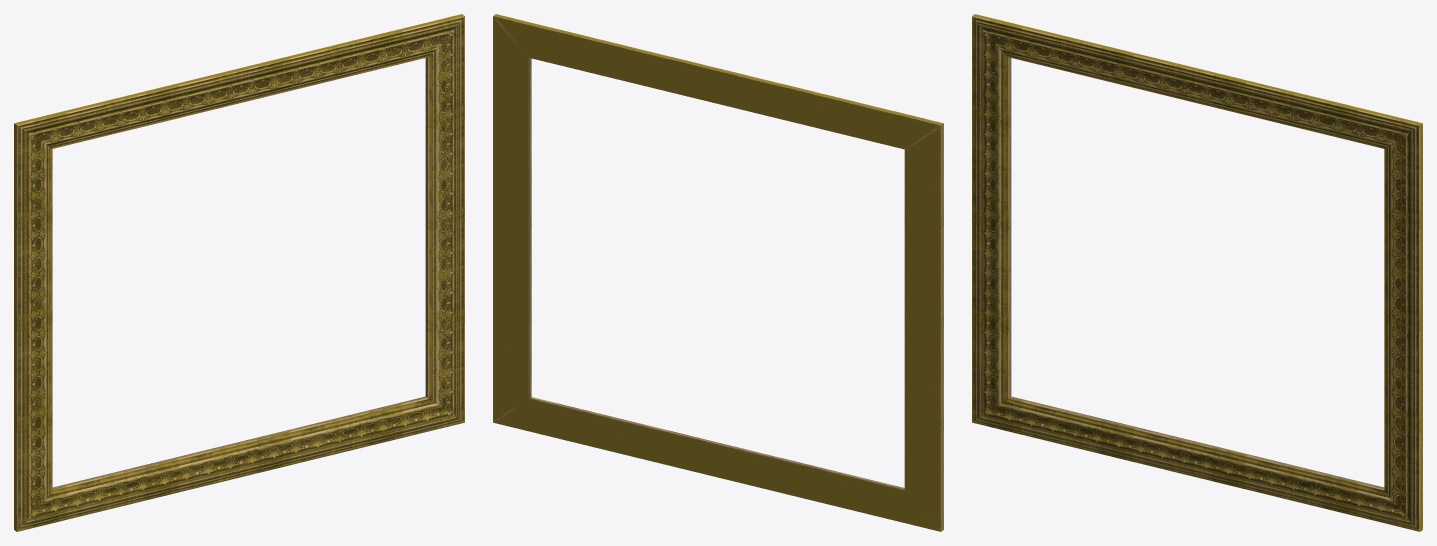
The model's file is GoldenFrame.fbx.
The picture shows the model from 3 angles, left to right: view 1: azimuth 30°, elevation 25°; view 2: azimuth 150°, elevation 25°; view 3: azimuth 330°, elevation 25°; orthographic projection.
Visible parts, largest first — view 1: Frame_1.001; view 2: Frame_1.001; view 3: Frame_1.001.
Boxes of the visible parts, box(x1,y1,x2,y2) form: Frame_1.001: box(14, 14, 464, 531); Frame_1.001: box(493, 14, 943, 531); Frame_1.001: box(972, 14, 1422, 531).
Size of the model in its own units: 23.06 by 20 by 0.36.
Materials: 1 (1 with a texture image).
